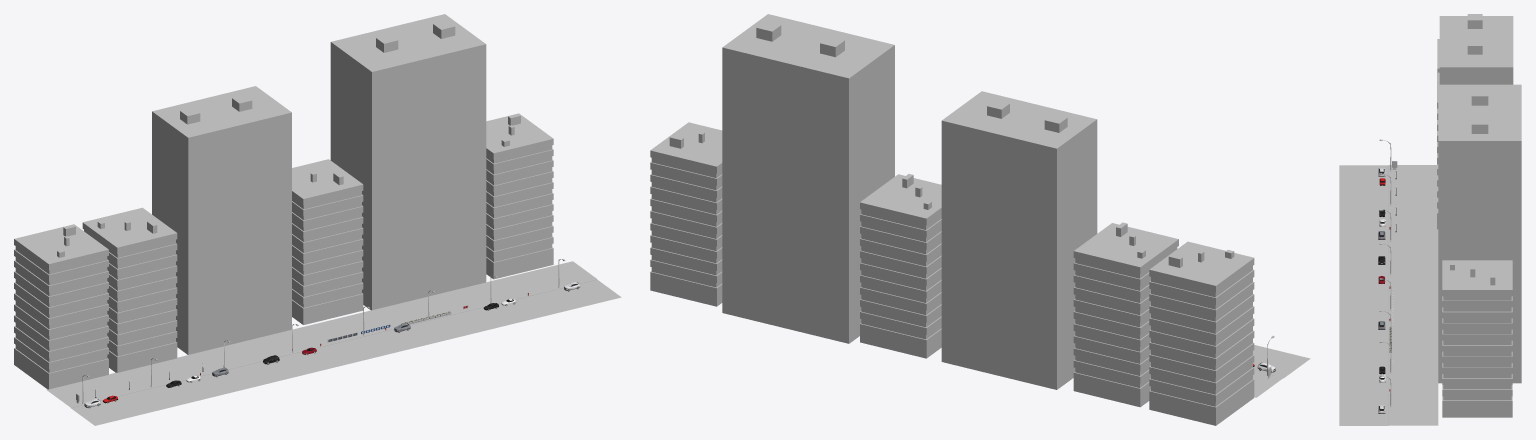
File: Stage02.obj
3 views of the same model, side by side, from view 1: azimuth 30°, elevation 25°; view 2: azimuth 150°, elevation 25°; view 3: azimuth 270°, elevation 25° (orthographic). The views are drawn at different scales.
Parts seen in each view (by area): view 1: HighRise01_2Night, HighRise01_3Night, HighRise02_1__3_, HighRise02_2Night, HighRise02_1__5_, HighRise02_1__1_, StreetRoad01_1__3_, StreetRoad01_1__12_, StreetRoad01_1__15_, StreetRoad01_1__8_, StreetRoad01_1__6_, StreetRoad01_1__5_ (+6 smaller); view 2: HighRise01_2Night, HighRise01_3Night, HighRise02_1__3_, HighRise02_1__5_, HighRise02_2Night, HighRise02_1__1_, StreetRoad01_1__3_; view 3: HighRise01_2Night, HighRise02_1__1_, HighRise01_3Night, StreetRoad01_1__3_, StreetRoad01_1__12_, StreetRoad01_1__6_, StreetRoad01_1__8_, StreetRoad01_1__15_, StreetRoad01_1__14_, StreetRoad01_1__5_, StreetRoad01_1__13_, StreetRoad01_1__2_ (+54 smaller).
Boxes of the visible parts, x1,y1,x2,y2 form: HighRise01_2Night: (330,14,486,310); HighRise01_3Night: (152,86,291,354); HighRise02_1__3_: (14,224,108,389); HighRise02_2Night: (82,207,177,372); HighRise02_1__5_: (292,159,363,324); HighRise02_1__1_: (486,113,553,279); StreetRoad01_1__3_: (71,392,158,425); StreetRoad01_1__12_: (429,310,494,338); StreetRoad01_1__15_: (345,331,410,358); StreetRoad01_1__8_: (515,290,579,317); StreetRoad01_1__6_: (222,362,284,389); StreetRoad01_1__5_: (307,341,368,369); HighRise01_2Night: (722,14,894,343); HighRise01_3Night: (941,91,1097,389); HighRise02_1__3_: (1149,241,1254,425); HighRise02_1__5_: (860,174,941,358); HighRise02_2Night: (1073,222,1178,407); HighRise02_1__1_: (650,122,722,306); StreetRoad01_1__3_: (1253,345,1310,377); HighRise01_2Night: (1438,84,1521,383); HighRise02_1__1_: (1442,260,1512,417); HighRise01_3Night: (1439,14,1513,84); StreetRoad01_1__3_: (1339,165,1388,196); StreetRoad01_1__12_: (1339,342,1388,363); StreetRoad01_1__6_: (1339,238,1388,259); StreetRoad01_1__8_: (1339,384,1388,404); StreetRoad01_1__15_: (1339,301,1388,321); StreetRoad01_1__14_: (1339,321,1388,342); StreetRoad01_1__5_: (1339,280,1388,300); StreetRoad01_1__13_: (1339,363,1388,384); StreetRoad01_1__2_: (1339,197,1388,217).
Size of the model in its own units: 17500 by 7881 by 5180.
